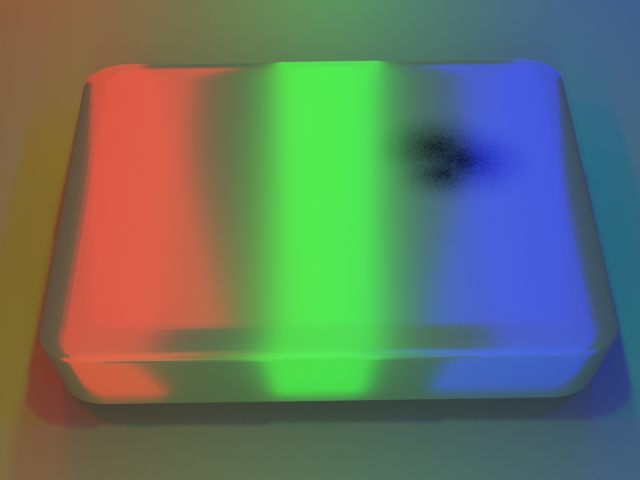stain: (355, 89, 591, 220)
